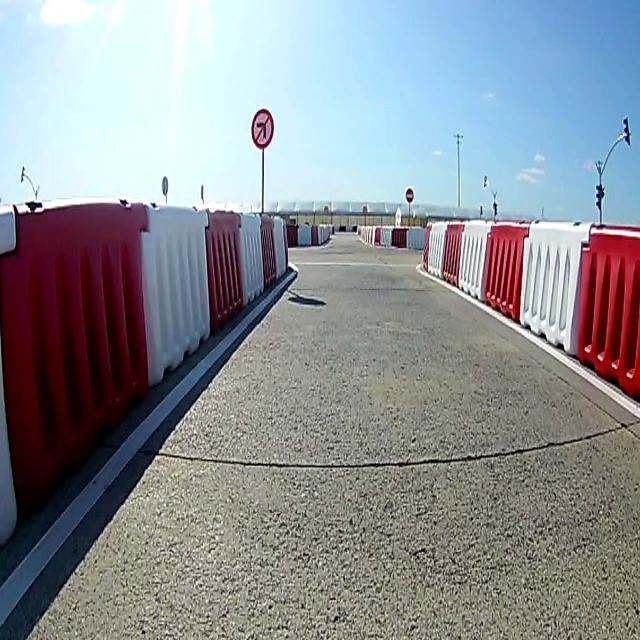girisyok: (405, 186, 414, 203)
soladonulmez: (251, 108, 275, 149)
